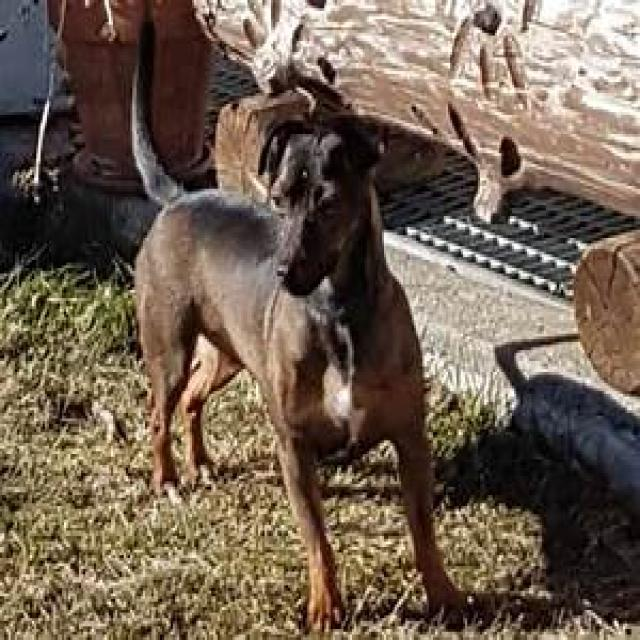dog: (134, 60, 467, 632)
